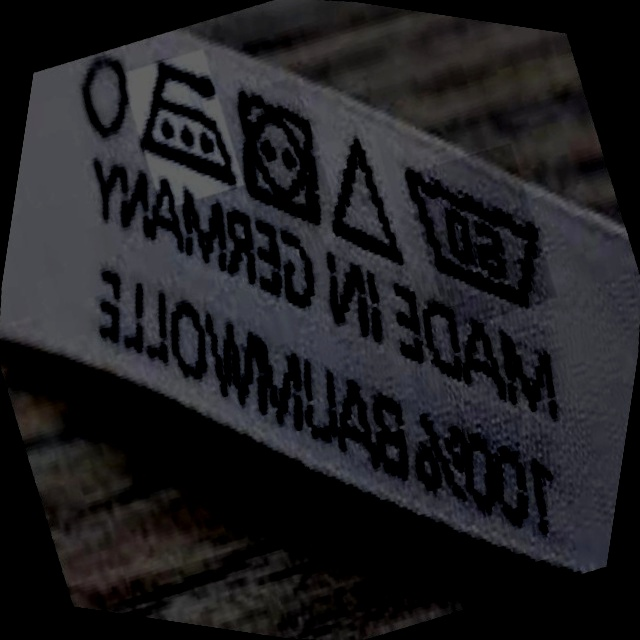60C: (384, 149, 570, 317)
bleach: (314, 126, 416, 271)
iron_high: (123, 46, 251, 195)
tumble_dry_medium: (221, 78, 338, 228)
